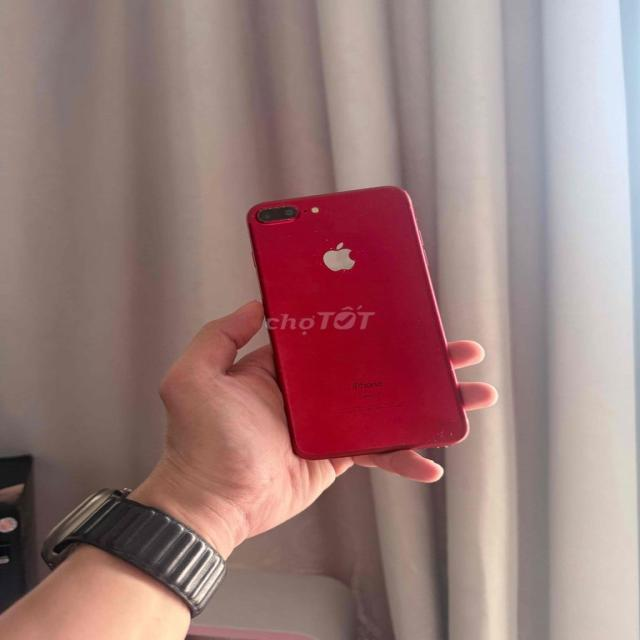gen_7_8: (248, 178, 480, 461)
